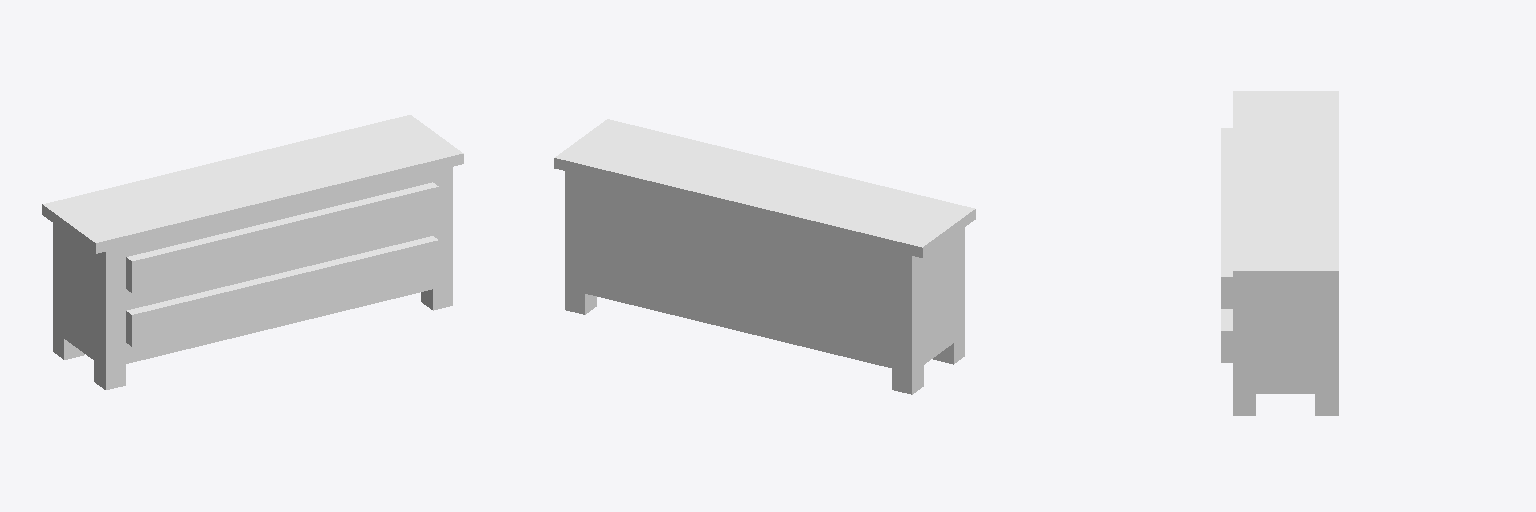
Rendered from cupboard5.obj.
3 renders of one model, left to right at view 1: azimuth 30°, elevation 25°; view 2: azimuth 150°, elevation 25°; view 3: azimuth 270°, elevation 25°, orthographic.
Visible parts, largest first — view 1: cupboard5; view 2: cupboard5; view 3: cupboard5.
Boxes of the visible parts, <box> form: cupboard5: <box>42,115,463,389</box>; cupboard5: <box>554,119,975,394</box>; cupboard5: <box>1221,91,1338,415</box>.
Size of the model in its own units: 72 by 28 by 20.